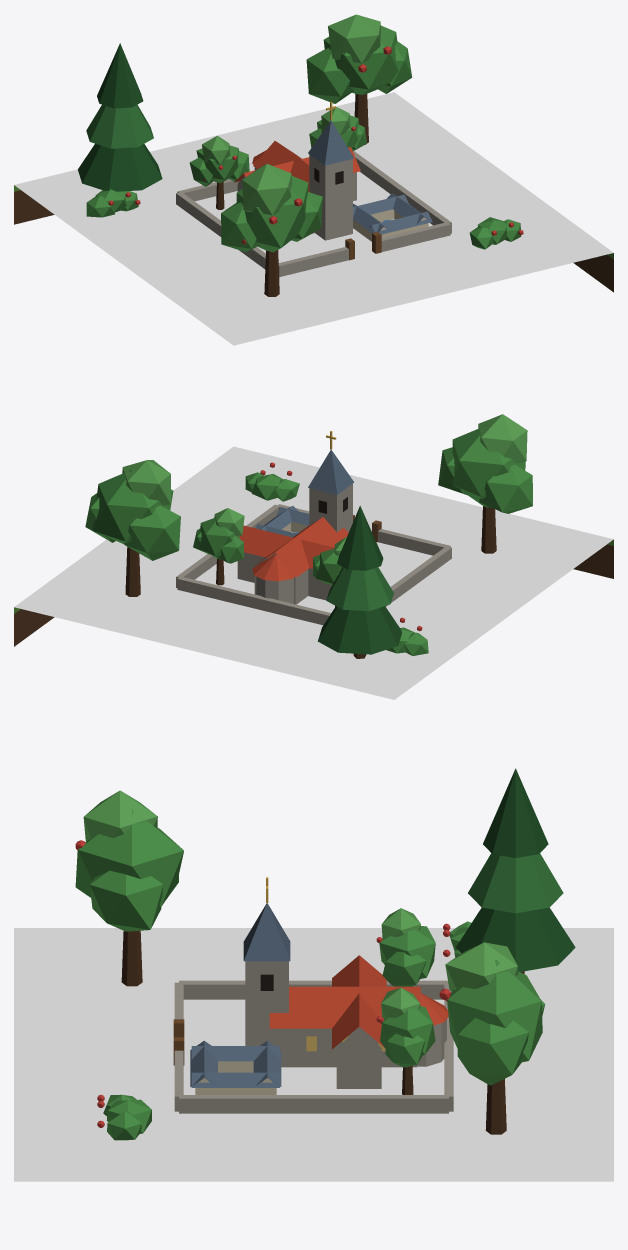
File: fortR.glb
The picture shows the model from 3 angles, top to bottom: view 1: azimuth 30°, elevation 25°; view 2: azimuth 150°, elevation 25°; view 3: azimuth 270°, elevation 25°; orthographic projection. The views are drawn at different scales.
Visible parts, largest first — view 1: fortR; view 2: fortR; view 3: fortR.
Part boxes in pixels (x1,y1,x2,y2): fortR: [14, 14, 613, 345]; fortR: [14, 414, 613, 699]; fortR: [14, 768, 613, 1181].
Bounding box in the file's own units: 2 × 0.96 × 2.
